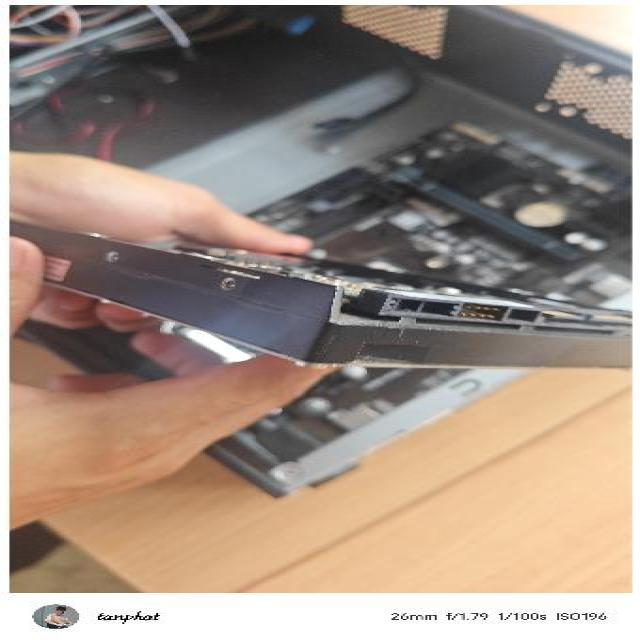DISK: (0, 206, 640, 372)
